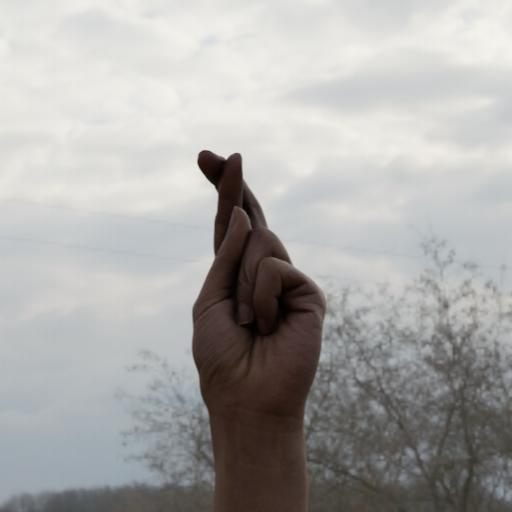R: (171, 128, 349, 425)
